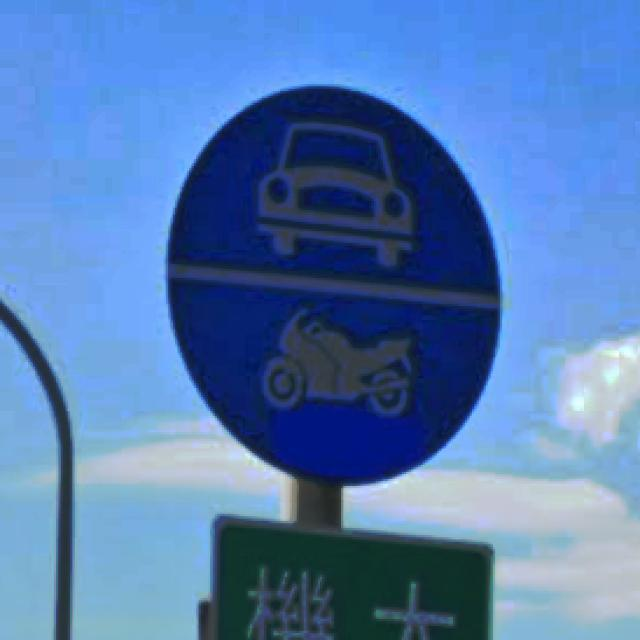carmotorcycle: (168, 86, 502, 486)
